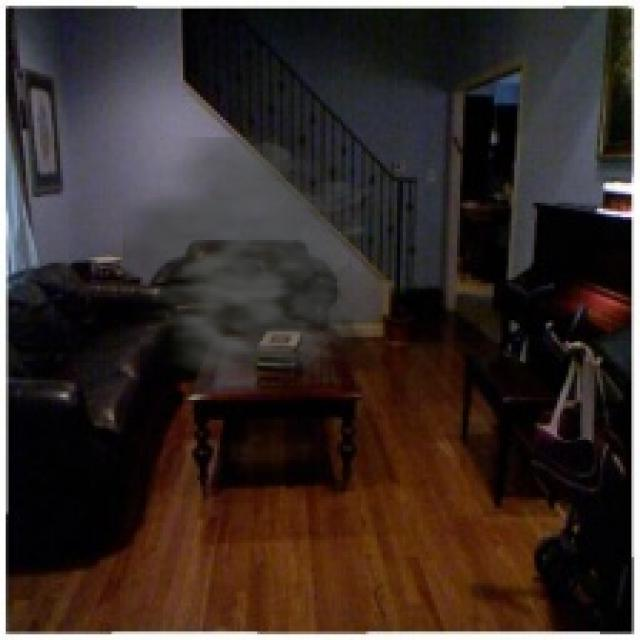Smoke: (123, 137, 400, 397)
